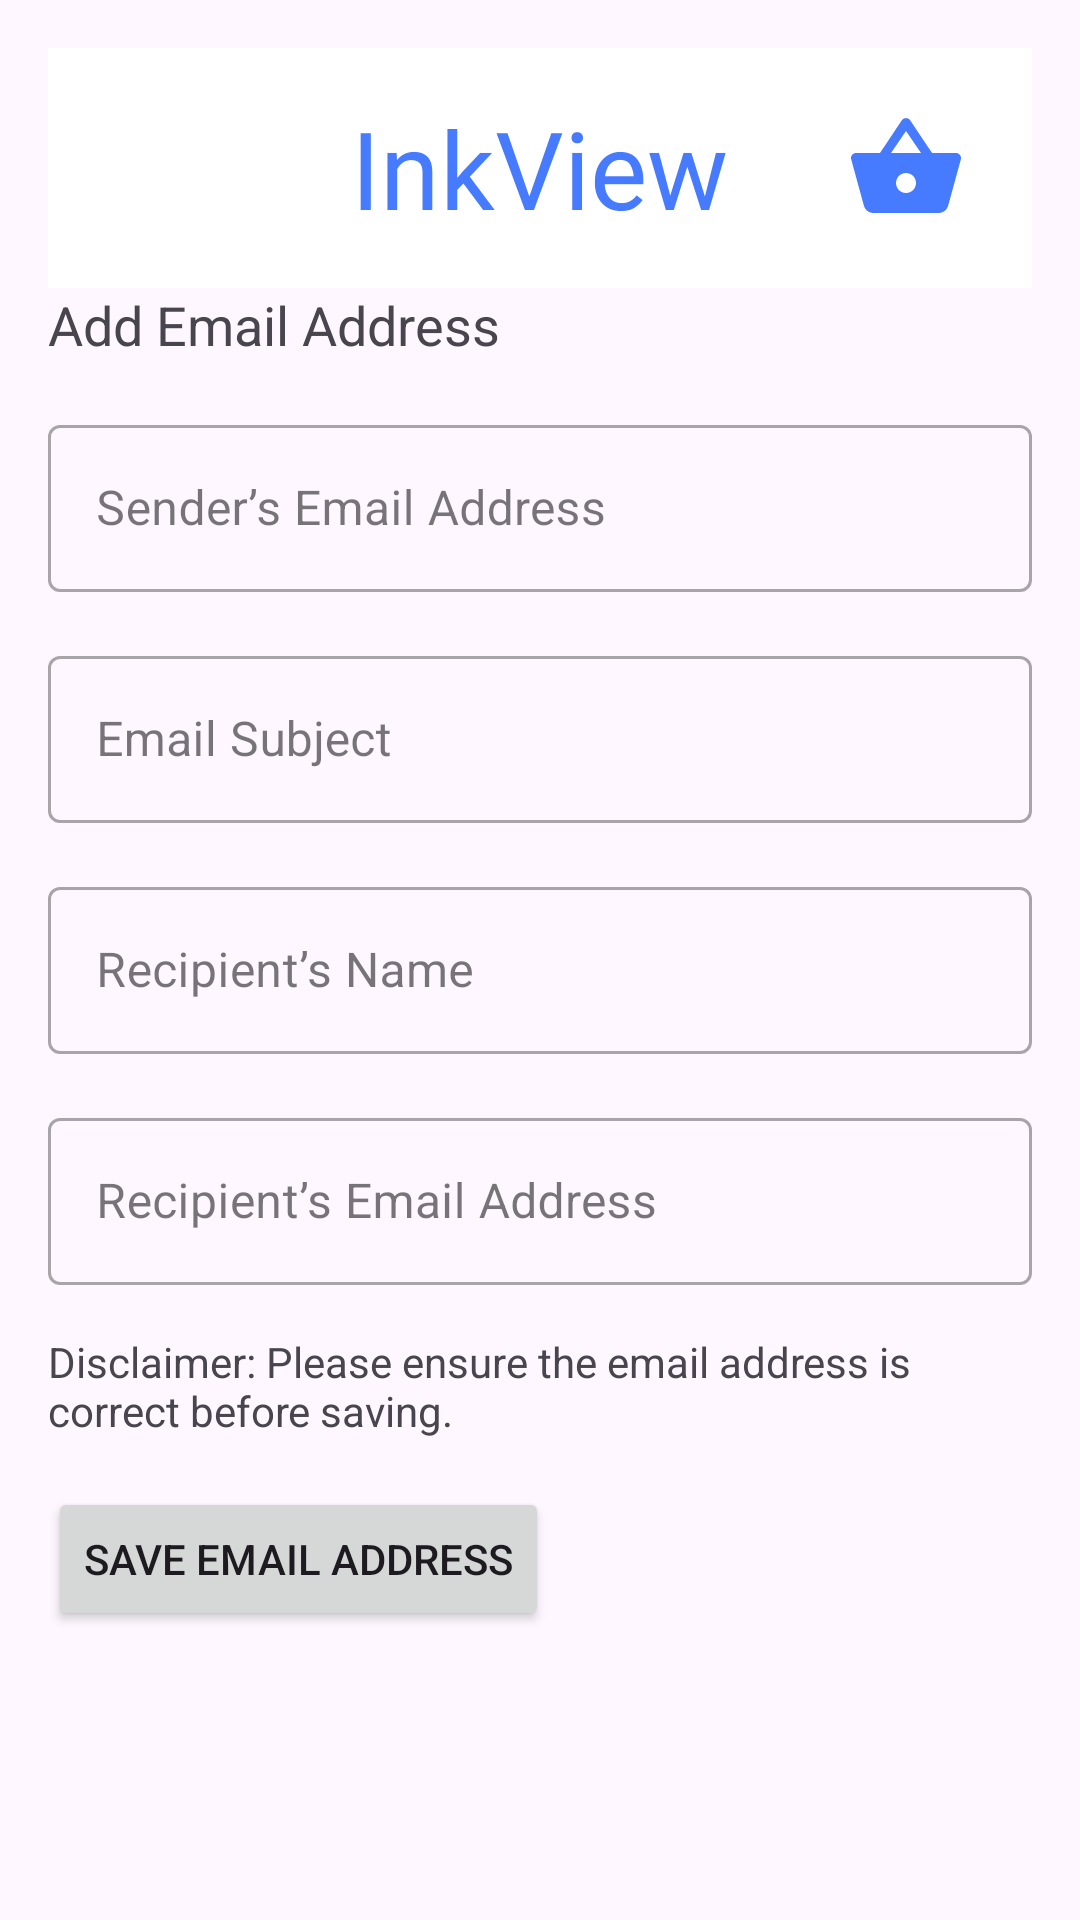

Named icons in this screenshot (1080x1920) and their centers, (x=x, y=y):
Basket: (x=906, y=165)
